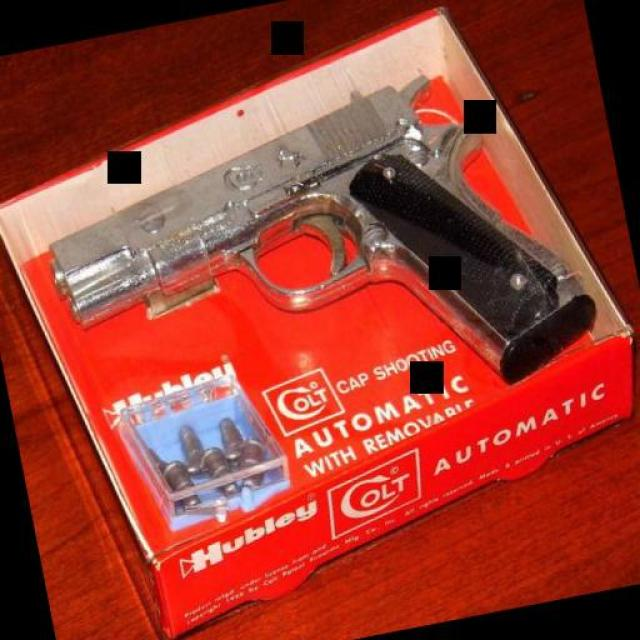gun: (14, 50, 614, 462)
